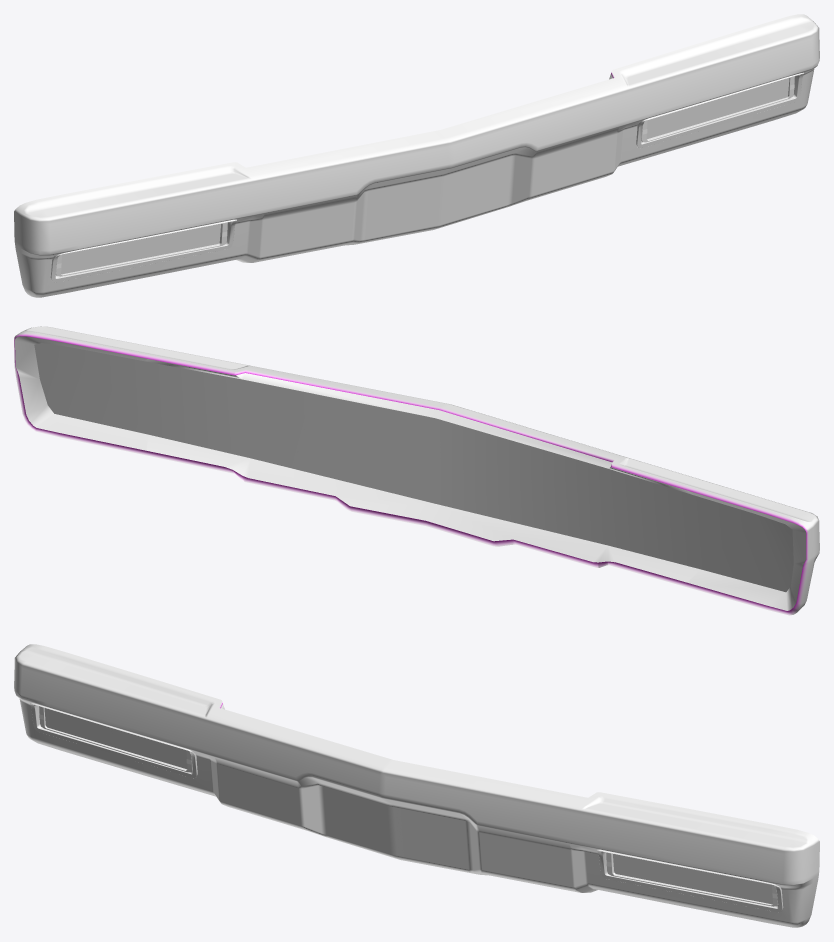
The model's file is Car_Buick_GrandNational_1987_BumperF_SetB.fbx.
The picture shows the model from 3 angles, top to bottom: view 1: azimuth 30°, elevation 25°; view 2: azimuth 150°, elevation 25°; view 3: azimuth 330°, elevation 25°; orthographic projection.
Visible parts, largest first — view 1: BumperF 6; view 2: BumperF 6; view 3: BumperF 6.
Part boxes in pixels (x1=…): BumperF 6: x1=14, y1=14, x2=819, y2=297; BumperF 6: x1=14, y1=326, x2=819, y2=615; BumperF 6: x1=14, y1=644, x2=819, y2=927.
Bounding box in the file's own units: 1.72 × 0.23 × 0.1558.
